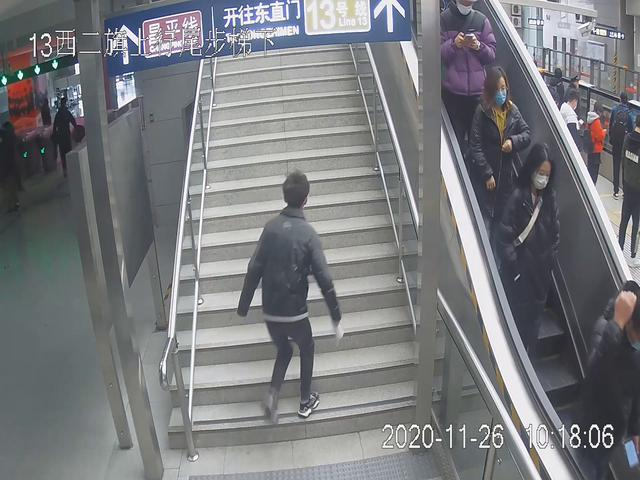person: (237, 166, 348, 431), (495, 134, 565, 387), (468, 62, 534, 245), (433, 1, 495, 151)
